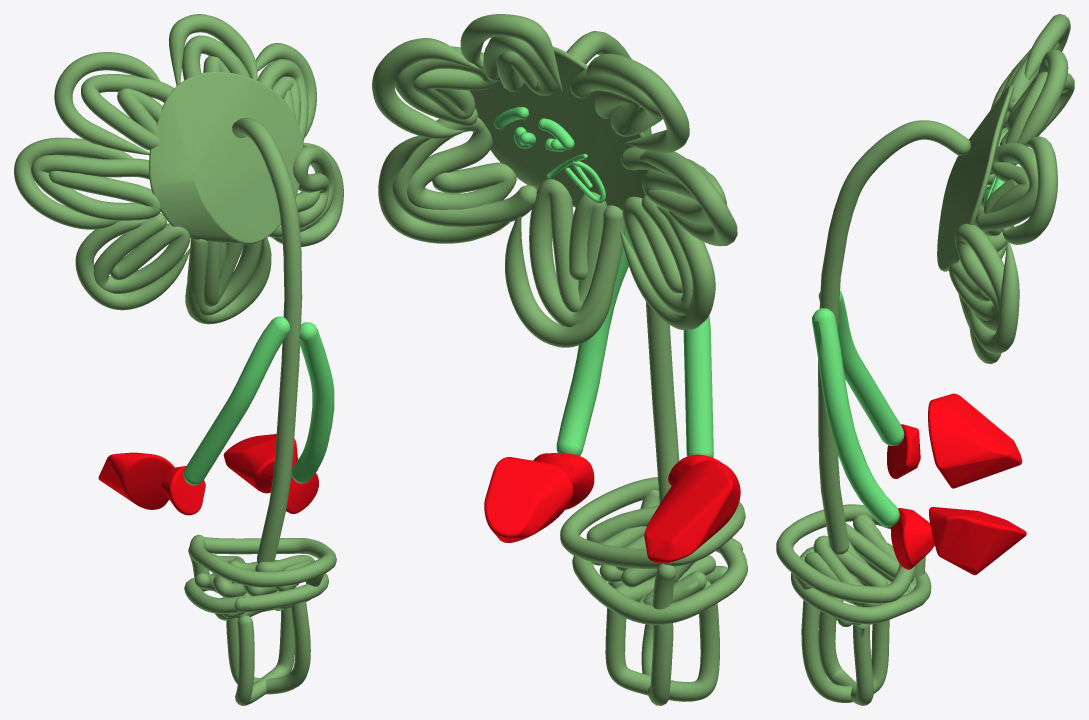
File: plant.gltf
3 views of the same model, side by side, from view 1: azimuth 30°, elevation 25°; view 2: azimuth 150°, elevation 25°; view 3: azimuth 270°, elevation 25° (orthographic). The views are drawn at different scales.
Parts seen in each view (by area): view 1: planta; view 2: planta; view 3: planta.
Boxes of the visible parts, box(x1,y1,x2,y2) form: planta: box(14, 14, 343, 705); planta: box(372, 14, 747, 705); planta: box(776, 14, 1074, 705).
Bounding box in the file's own units: 0.9507 × 1.81 × 0.7447.
